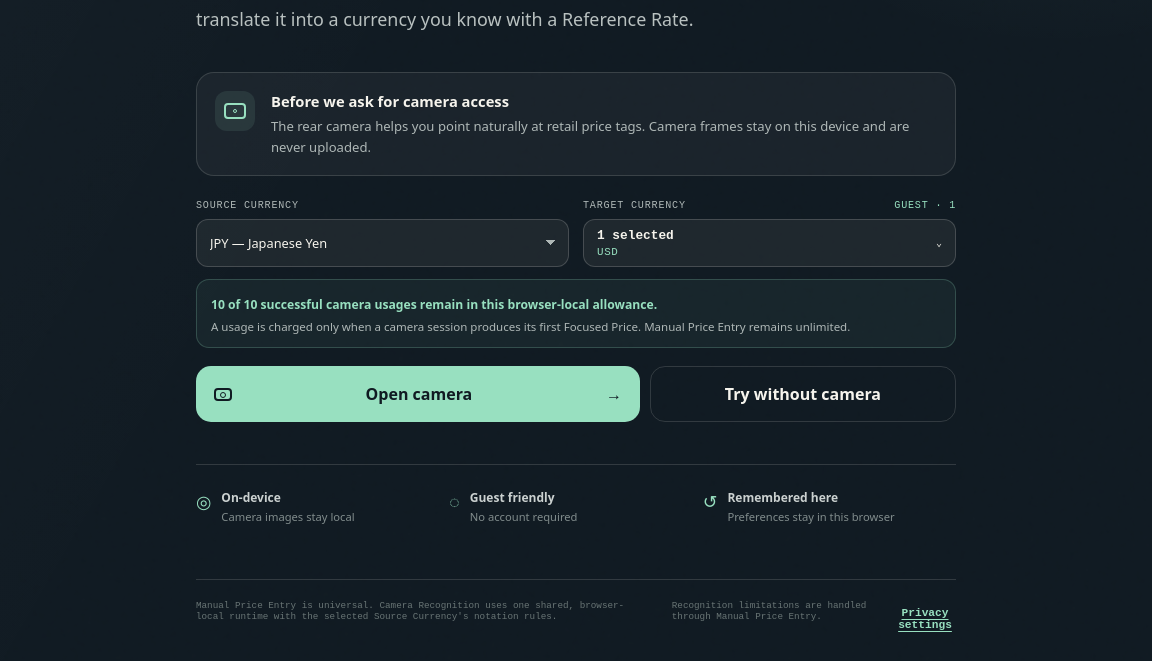
Guest camera journey › restores an offline conversion with its cached effective-date state
(page scrolled)
Click the button "Try without camera".
click(803, 394)  # box [650,366,956,422]
(page scrolled)
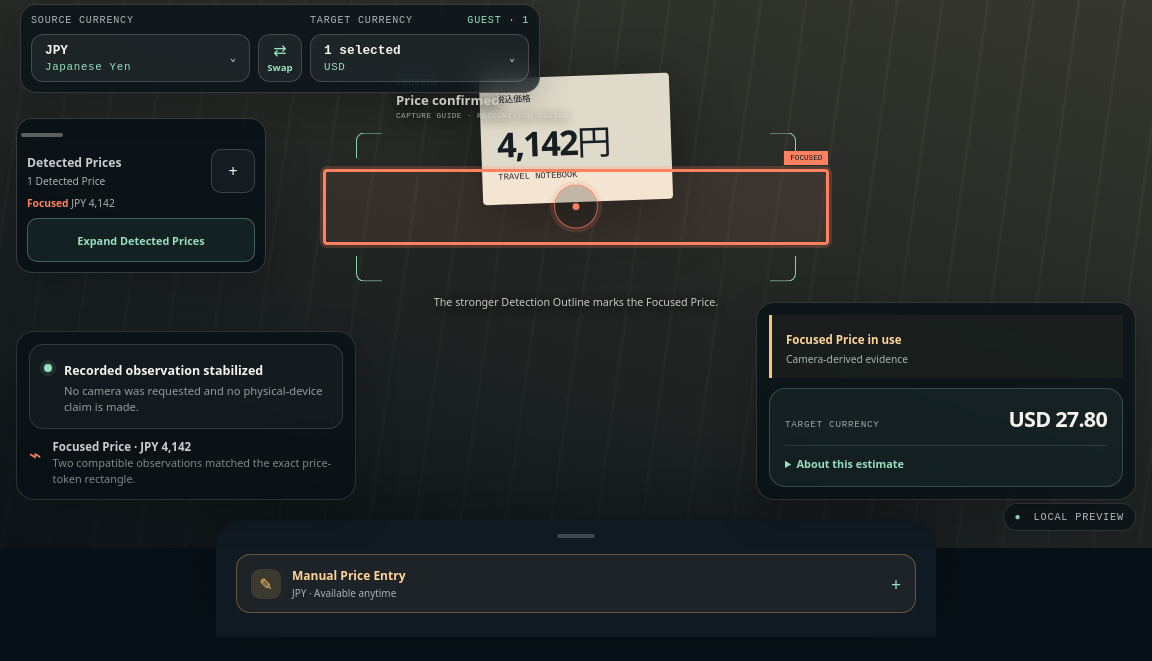
Result: the text "USD 27.80" is shown at [1008,404,1107,433]
